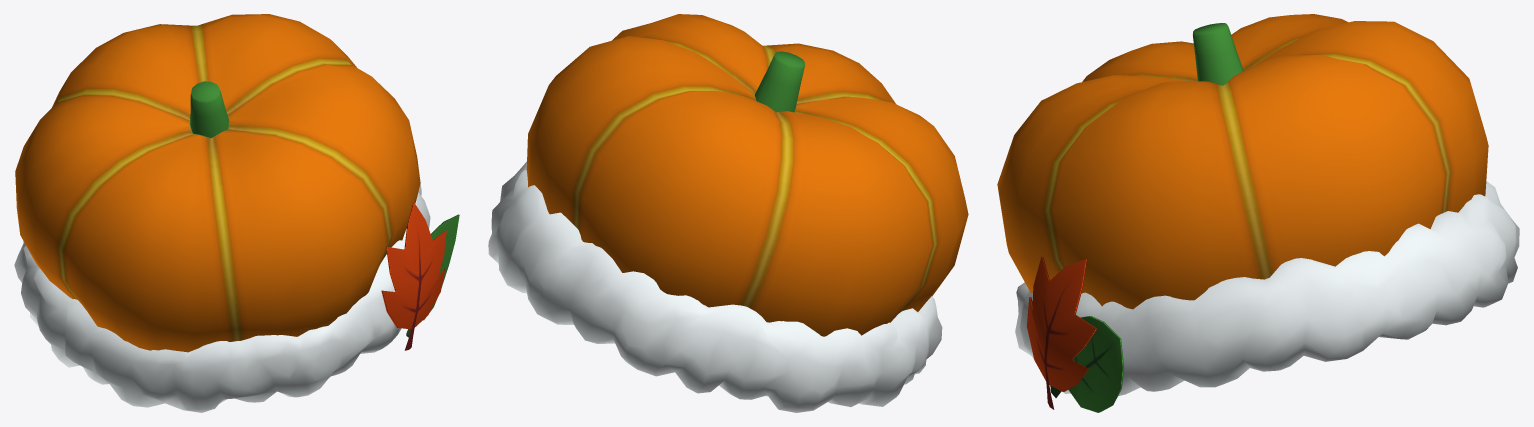
Rendered from pm0393_00_Rig.fbx.
3 views of the same model, side by side, from view 1: azimuth 30°, elevation 25°; view 2: azimuth 150°, elevation 25°; view 3: azimuth 270°, elevation 25° (orthographic). The views are drawn at different scales.
Visible parts, largest first — view 1: doodad_Halloween2021_Crown_Hat; view 2: doodad_Halloween2021_Crown_Hat; view 3: doodad_Halloween2021_Crown_Hat.
Part boxes in pixels (box(x1,y1,x2,y2)): doodad_Halloween2021_Crown_Hat: box(14, 14, 459, 412); doodad_Halloween2021_Crown_Hat: box(488, 14, 968, 412); doodad_Halloween2021_Crown_Hat: box(997, 14, 1519, 412).
Bounding box in the file's own units: 0.1519 × 0.1164 × 0.1545.
